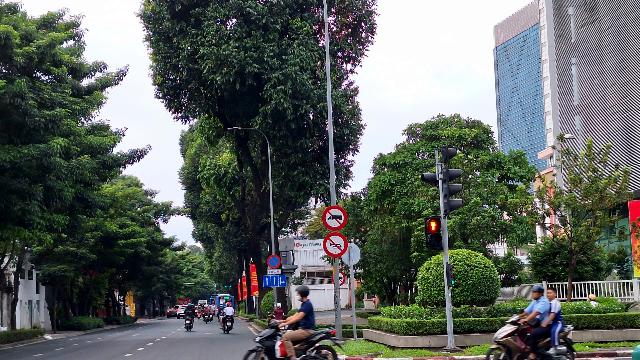cam-bop-coi: (322, 232, 348, 257)
cam-do-xe: (267, 255, 281, 269)
